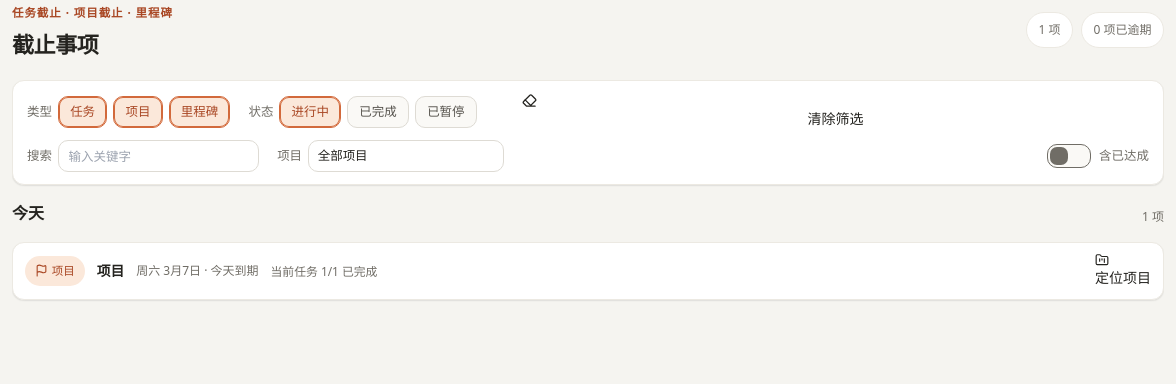
Test: deadlines page › hides currently reached milestones until the user asks for them
The width and height of the screenshot is (1176, 384).
Expected: the text "已达成目标" is not shown
Click the checkbox labelled "含已达成". click: point(1069, 156)
box: [1047,144,1091,168]
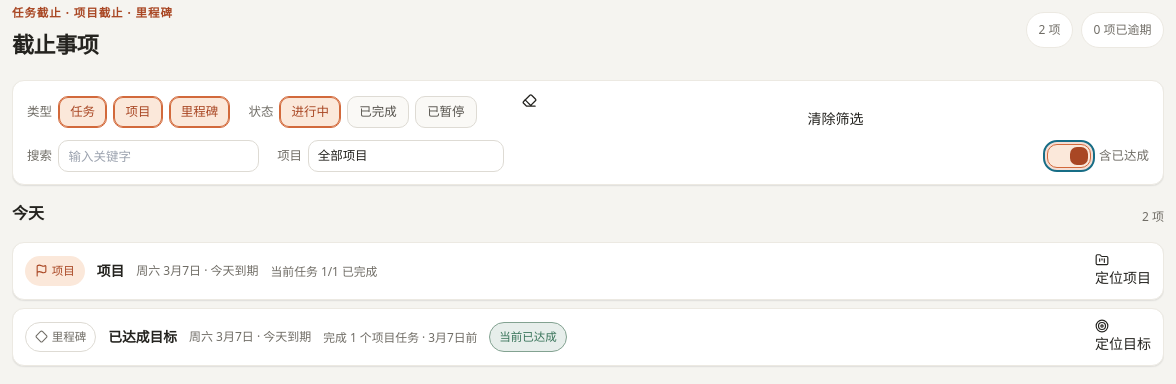
Now the text "当前已达成" is shown, box [489,322,566,352]
